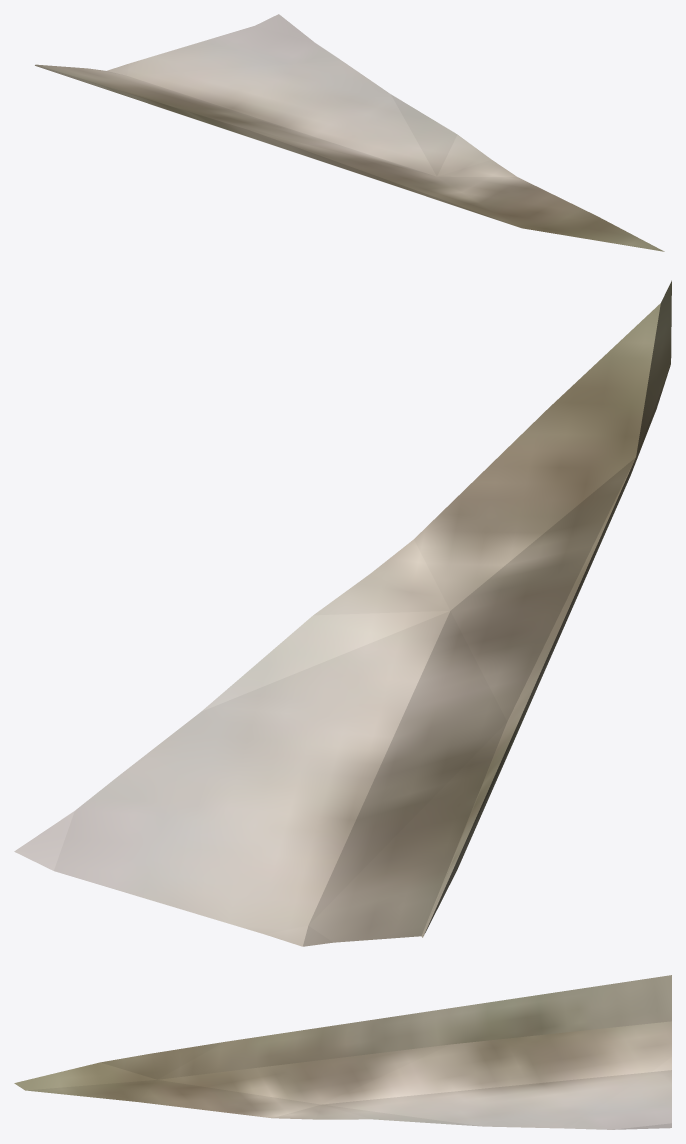
3 renders of one model, top to bottom at view 1: azimuth 30°, elevation 25°; view 2: azimuth 150°, elevation 25°; view 3: azimuth 270°, elevation 25°, orthographic. The views are drawn at different scales.
Bounding box in the file's own units: 0.397 × 0.098 × 1.02.
1 material, 1 textured.
